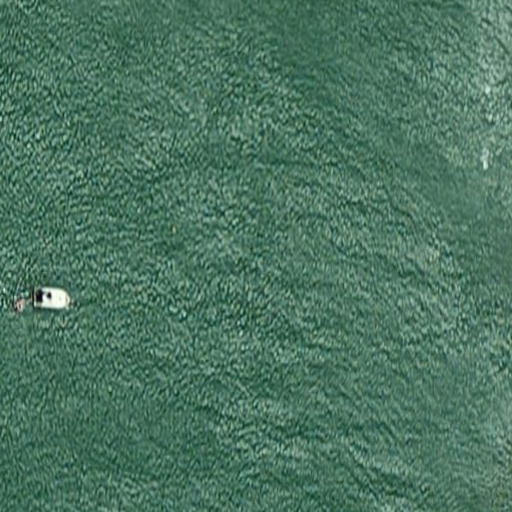ship: (30, 282, 72, 315)
